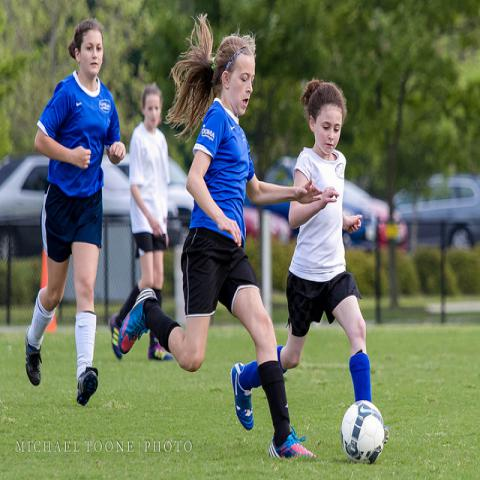car: (260, 158, 408, 247), (0, 157, 130, 258), (392, 177, 480, 250), (168, 155, 194, 226)
